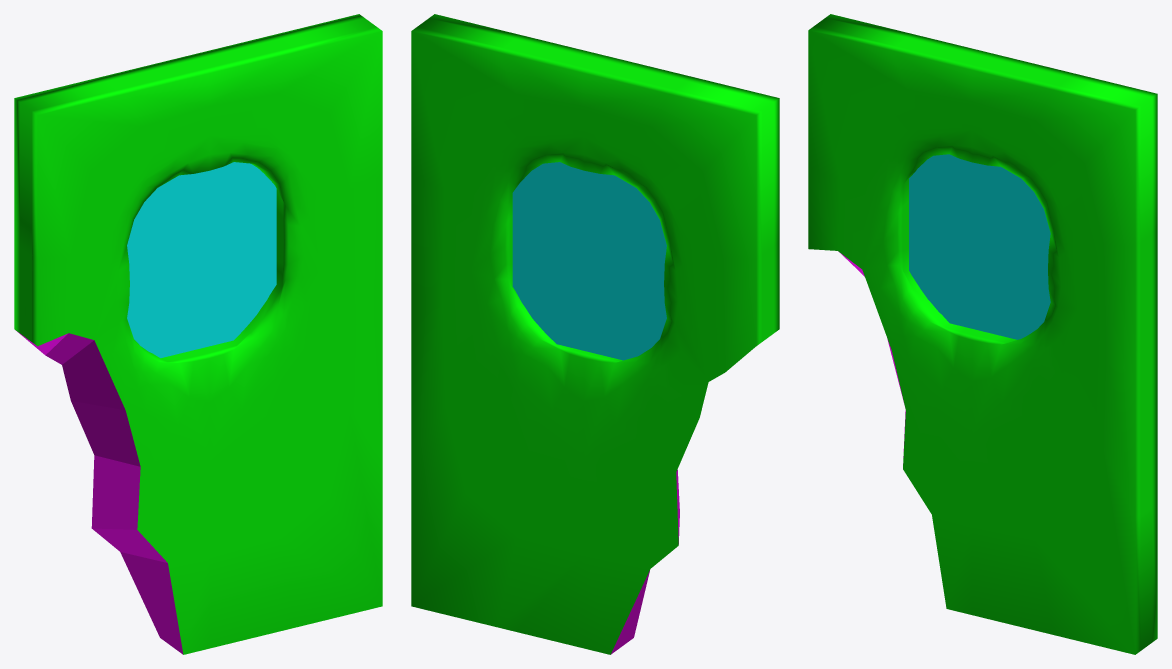
File: porte à briser.fbx
3 views of the same model, side by side, from view 1: azimuth 30°, elevation 25°; view 2: azimuth 150°, elevation 25°; view 3: azimuth 330°, elevation 25° (orthographic). The views are drawn at different scales.
Parts seen in each view (by area): view 1: polySurface40, pCube175, polySurface41; view 2: polySurface40, pCube175, polySurface41; view 3: polySurface40, pCube175.
Part boxes in pixels (left/top/right/bottom): polySurface40: left=14, top=14, right=382, bottom=654; pCube175: left=127, top=162, right=276, bottom=358; polySurface41: left=15, top=330, right=183, bottom=654; polySurface40: left=411, top=14, right=779, bottom=654; pCube175: left=512, top=162, right=666, bottom=360; polySurface41: left=611, top=469, right=679, bottom=654; polySurface40: left=808, top=14, right=1157, bottom=654; pCube175: left=909, top=154, right=1050, bottom=339.
Size of the model in its own units: 3.02 by 4.82 by 0.3559.
